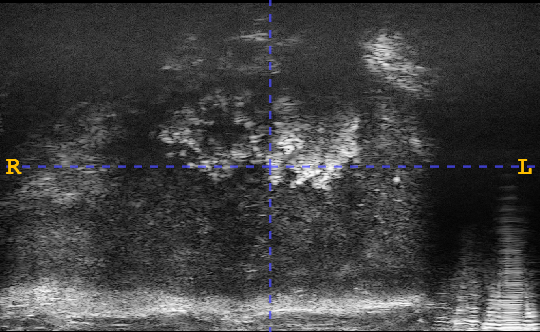calcifications: (127, 82, 416, 201)
